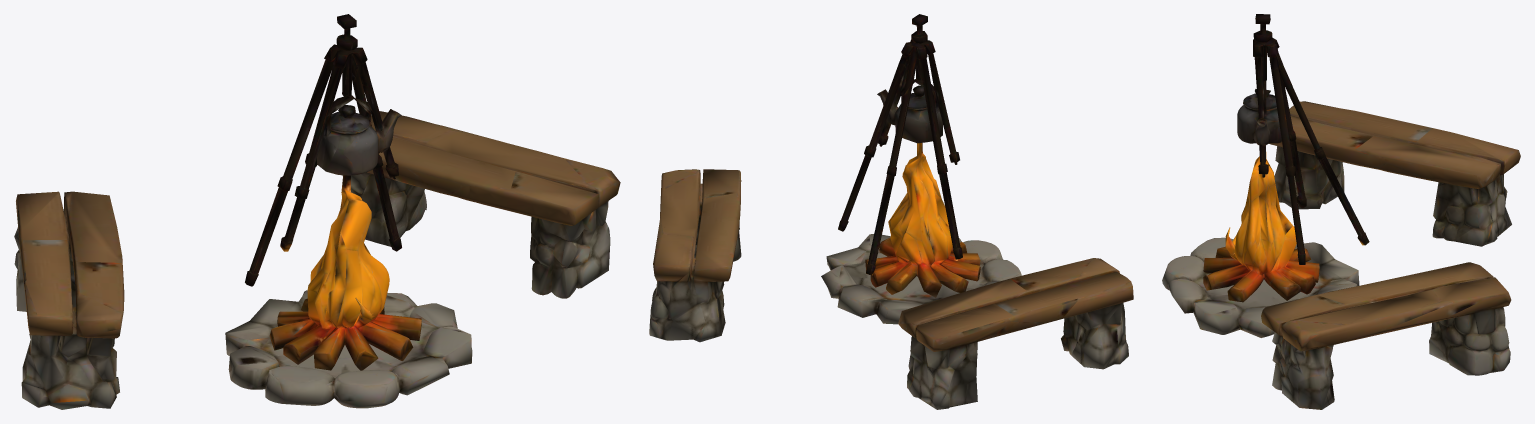
Rendered from campfire_set_1.glb.
3 renders of one model, left to right at view 1: azimuth 30°, elevation 25°; view 2: azimuth 150°, elevation 25°; view 3: azimuth 270°, elevation 25°, orthographic. The views are drawn at different scales.
Visible parts, largest first — view 1: node_0; view 2: node_0; view 3: node_0.
Boxes of the visible parts, x1,y1,x2,y2 form: node_0: [14, 14, 620, 409]; node_0: [649, 14, 1133, 409]; node_0: [1162, 14, 1520, 409].
Size of the model in its own units: 1.06 by 0.5883 by 0.6811.
1 material, 1 textured.
